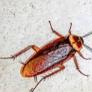cockroach: (22, 33, 84, 79)
